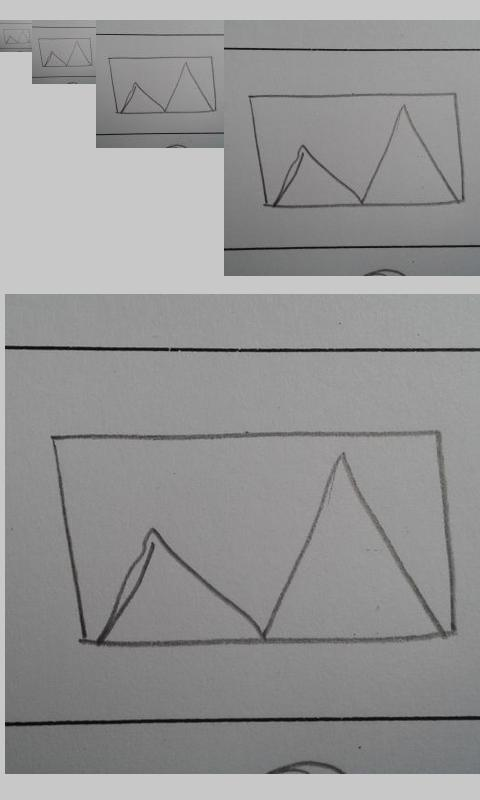image_view: (51, 430, 459, 653), (247, 92, 467, 212), (108, 56, 217, 115), (37, 37, 93, 68), (2, 28, 31, 45)
